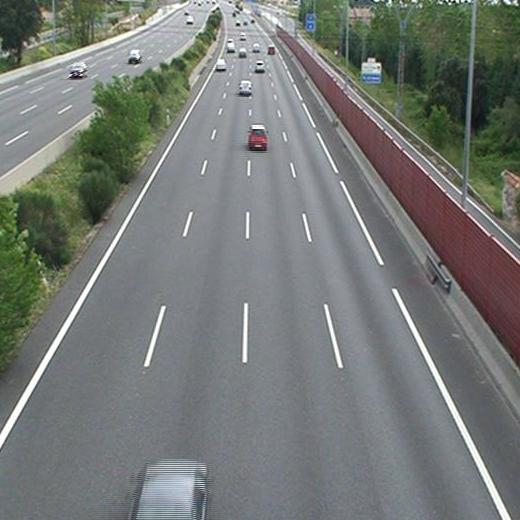car: (249, 124, 269, 147), (239, 80, 253, 94), (216, 59, 226, 70), (255, 61, 265, 71), (237, 49, 247, 58), (266, 45, 275, 54), (252, 43, 261, 51), (226, 43, 234, 51)
